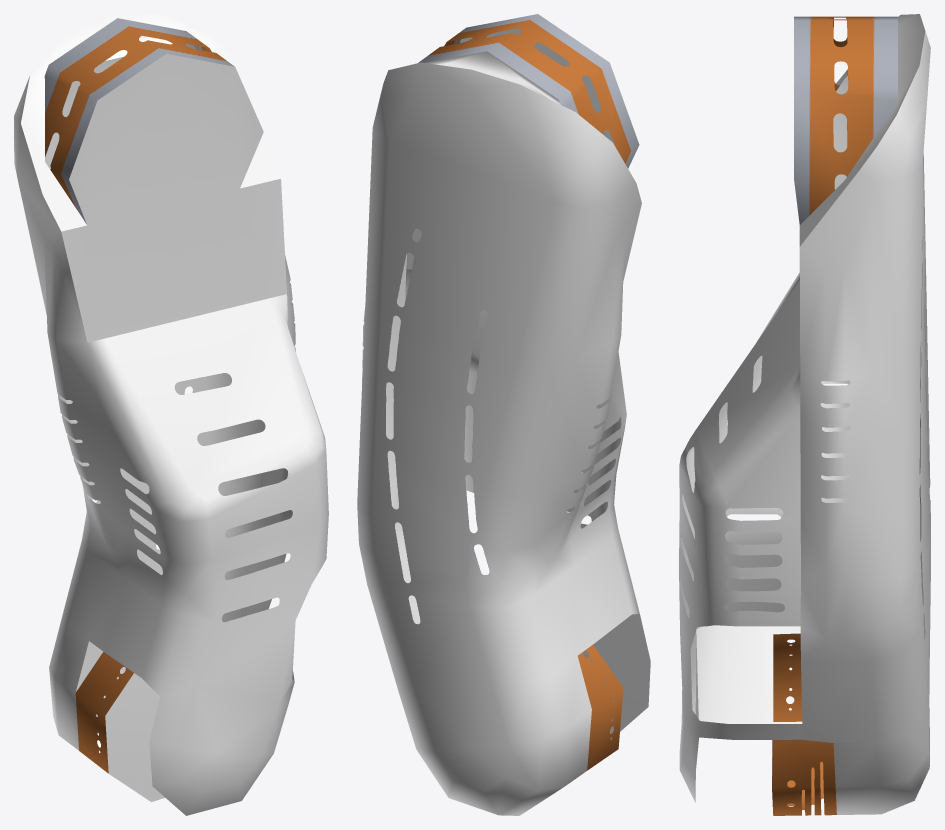
File: lj3_Left.dae
3 views of the same model, side by side, from view 1: azimuth 30°, elevation 25°; view 2: azimuth 150°, elevation 25°; view 3: azimuth 270°, elevation 25° (orthographic). The views are drawn at different scales.
Visible parts, largest first — view 1: Cylinder; view 2: Cylinder; view 3: Cylinder.
Part boxes in pixels (left/top/right/bottom): Cylinder: left=14, top=14, right=328, bottom=815; Cylinder: left=357, top=14, right=650, bottom=815; Cylinder: left=679, top=14, right=930, bottom=815.
Size of the model in its own units: 0.2062 by 0.1661 by 0.57.
1 material, 1 textured.
